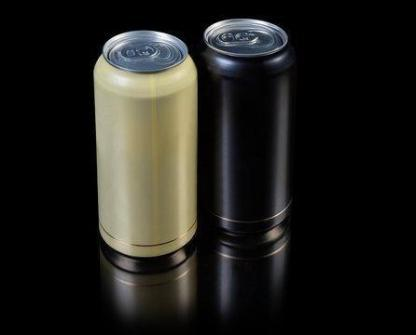Can: (92, 30, 200, 266), (196, 18, 298, 250)
